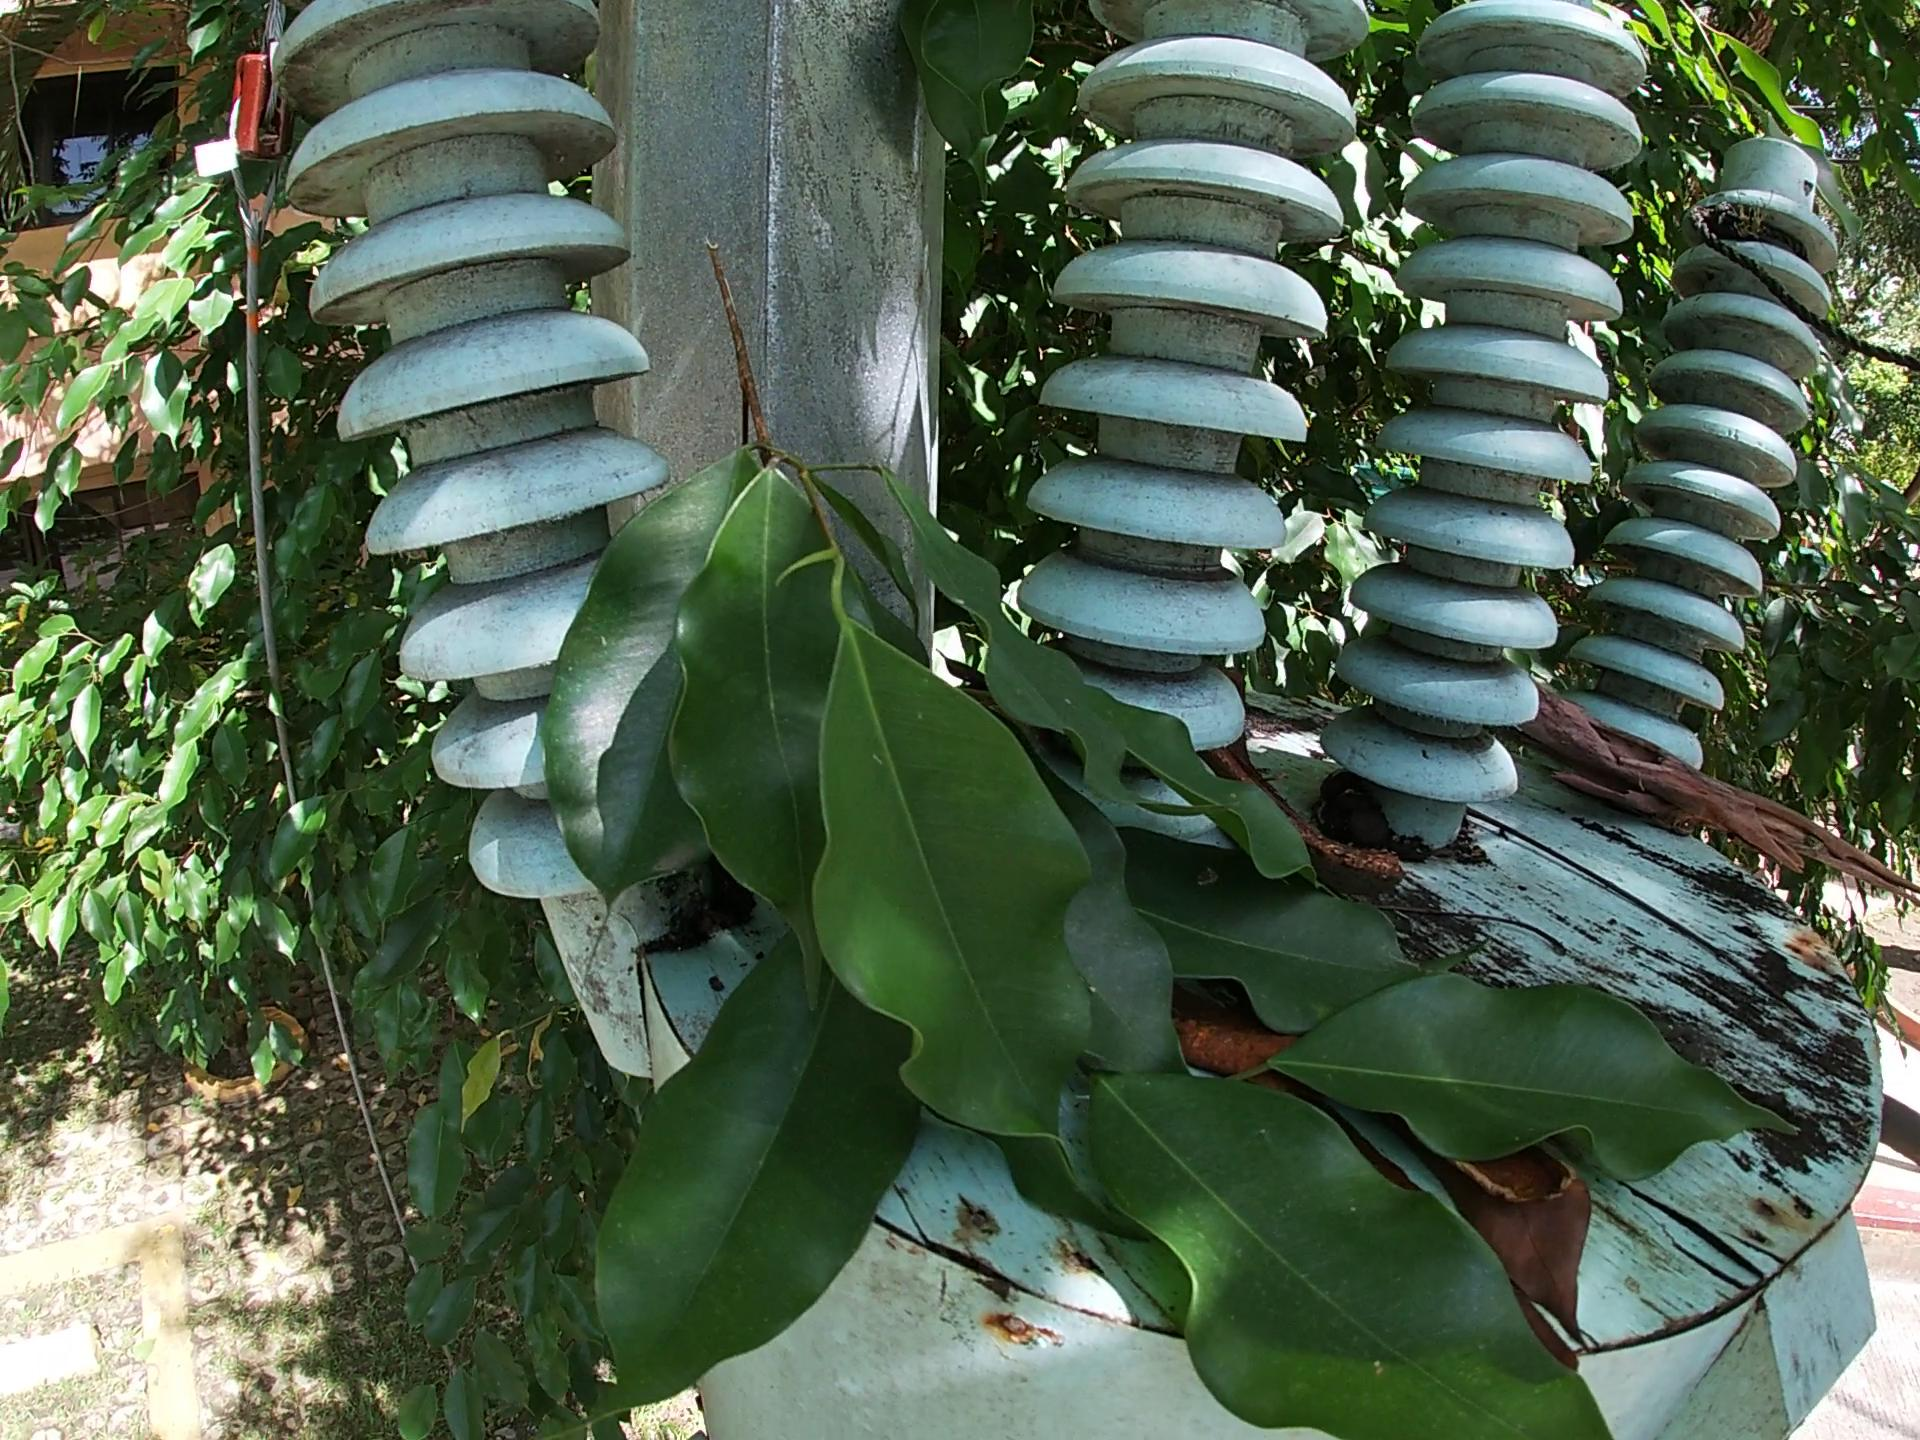branch with leaves: (543, 188, 1817, 1440)
leaf: (1506, 1199, 1606, 1369), (1187, 985, 1299, 1071)
mahogany fruit: (1222, 717, 1432, 892), (1438, 1131, 1574, 1216)
tree branch: (1500, 672, 1920, 930), (1466, 811, 1822, 1024), (1392, 895, 1584, 967)
